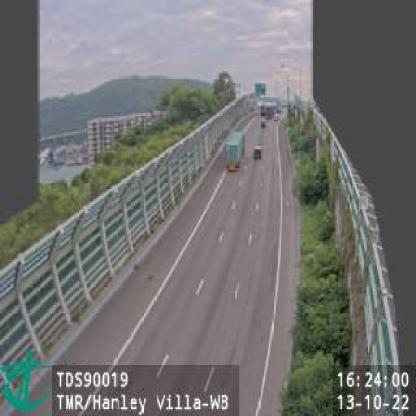Car: (253, 146, 262, 160), (258, 116, 267, 130)
Truck: (224, 133, 246, 172)
